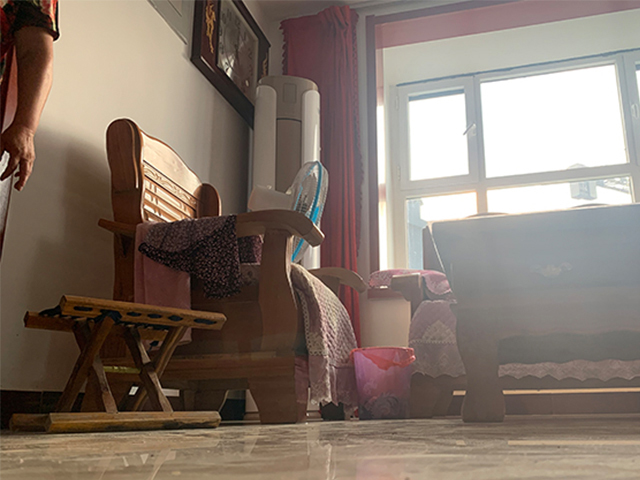sofa: (98, 118, 367, 428)
stool: (9, 293, 226, 433)
table: (429, 203, 640, 424)
trashcan: (352, 344, 416, 421)
